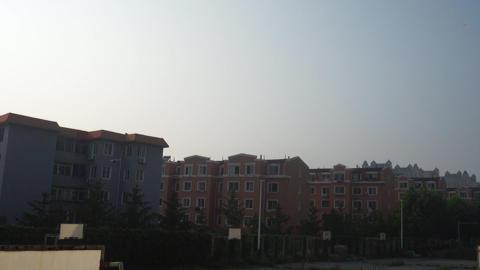UAV: (109, 160, 121, 164)
